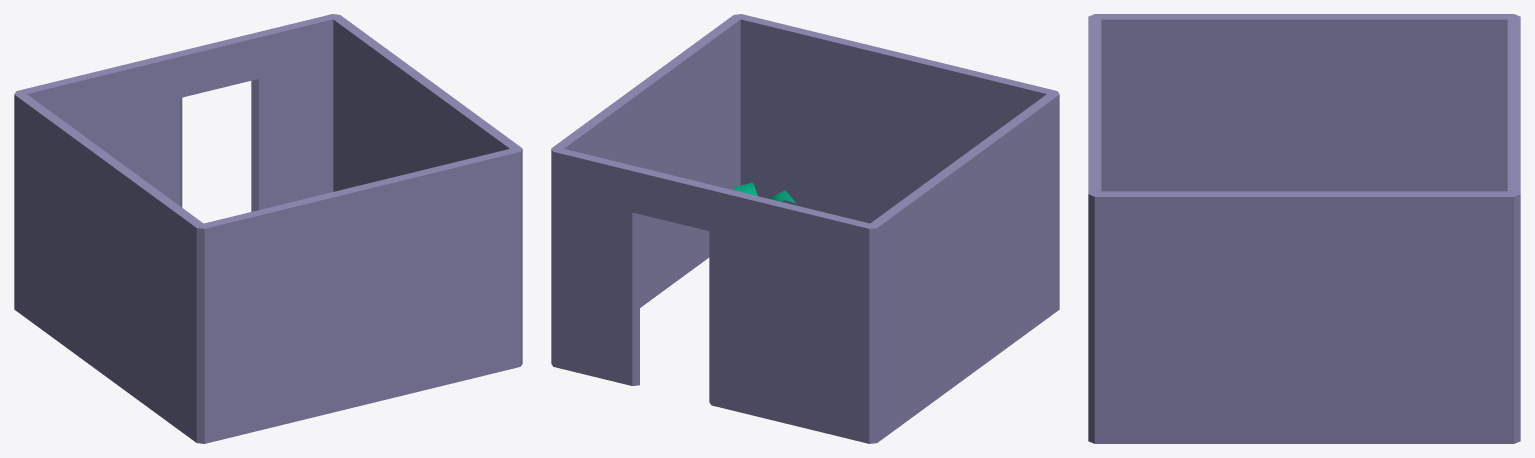
File: Section1_3.obj
3 views of the same model, side by side, from view 1: azimuth 30°, elevation 25°; view 2: azimuth 150°, elevation 25°; view 3: azimuth 270°, elevation 25° (orthographic). The views are drawn at different scales.
Visible parts, largest first — view 1: mergedBlocks; view 2: mergedBlocks; view 3: mergedBlocks.
Boxes of the visible parts, x1,y1,x2,y2 form: mergedBlocks: [14, 14, 522, 443]; mergedBlocks: [551, 14, 1059, 443]; mergedBlocks: [1088, 14, 1520, 443].
Bounding box in the file's own units: 4.13 × 2.6 × 4.13.
